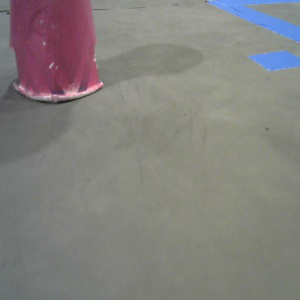middle: (10, 1, 103, 101)
